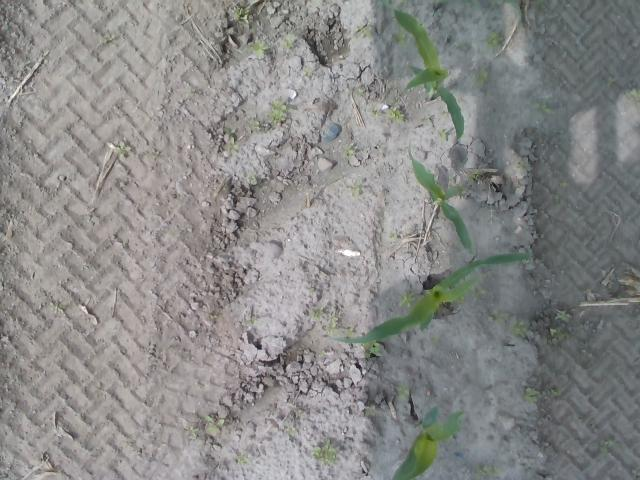Maize: (326, 252, 529, 348), (382, 0, 468, 141), (407, 139, 478, 254), (389, 403, 463, 480)
Weeds: (523, 384, 563, 404), (495, 310, 527, 334), (310, 438, 338, 463), (548, 306, 570, 336), (264, 100, 288, 126), (200, 414, 224, 438), (222, 124, 240, 156), (470, 67, 490, 92), (532, 96, 554, 114), (484, 31, 504, 49), (110, 140, 128, 160), (597, 438, 617, 456), (386, 105, 404, 123), (388, 30, 406, 48), (396, 293, 416, 309), (625, 86, 640, 106), (231, 5, 249, 21), (478, 465, 502, 477), (253, 40, 271, 54), (366, 338, 380, 356), (327, 312, 338, 334), (511, 160, 528, 174), (282, 34, 296, 48), (397, 385, 407, 402), (351, 182, 362, 196), (309, 310, 321, 322), (366, 404, 376, 418), (188, 427, 198, 440), (438, 128, 448, 141), (342, 145, 352, 157), (631, 467, 640, 480), (470, 169, 480, 180), (250, 119, 260, 130), (243, 318, 256, 326), (285, 424, 298, 432), (239, 454, 247, 465), (388, 234, 398, 241)
